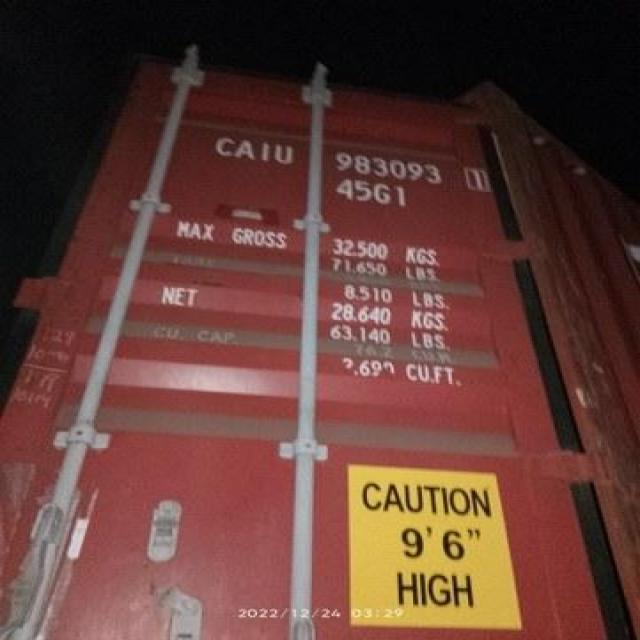container_number_h: (205, 107, 521, 226)
